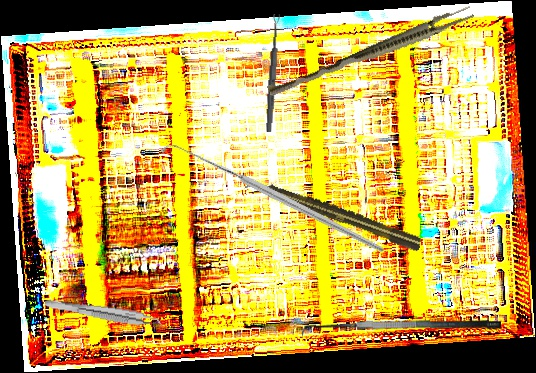Handpiece: (243, 173, 424, 254)
Hook Surgical: (160, 76, 385, 324)
Spatula Surgical: (301, 316, 502, 346)
Surgical Spoon: (264, 13, 282, 133)
Tissue Forceps: (266, 1, 476, 104), (43, 297, 165, 332)
